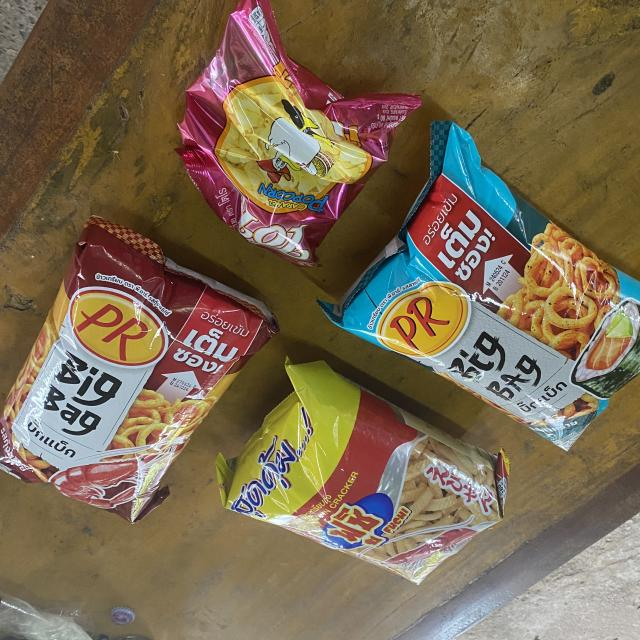plastik: (319, 122, 640, 450), (0, 216, 278, 522), (215, 360, 509, 583), (177, 0, 421, 266)
